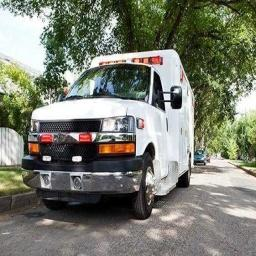Ambulance: (22, 50, 193, 218)
